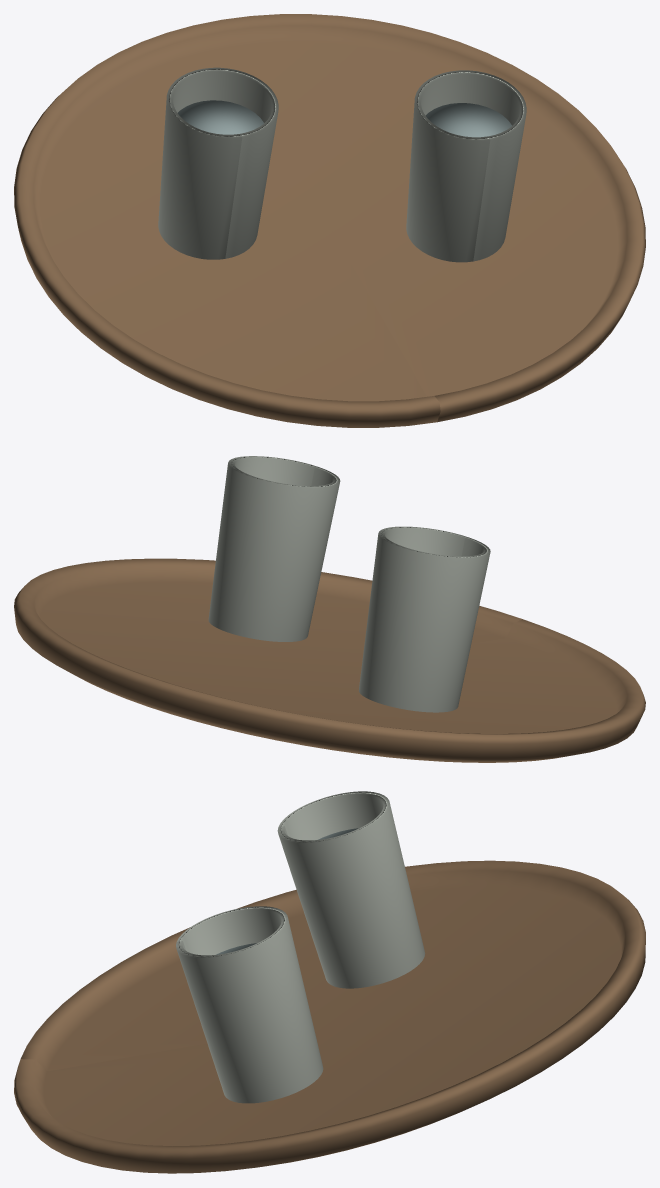
File: pub-service-tray.glb
The picture shows the model from 3 angles, top to bottom: view 1: azimuth 30°, elevation 25°; view 2: azimuth 150°, elevation 25°; view 3: azimuth 270°, elevation 25°; orthographic projection. The views are drawn at different scales.
Visible parts, largest first — view 1: pub_service_tray_loaded; view 2: pub_service_tray_loaded; view 3: pub_service_tray_loaded.
Part boxes in pixels (box(x1,y1,x2,y2)): pub_service_tray_loaded: box(14, 14, 645, 427); pub_service_tray_loaded: box(14, 456, 645, 762); pub_service_tray_loaded: box(14, 791, 645, 1173).
Size of the model in its own units: 0.3933 by 0.1658 by 0.3811.
